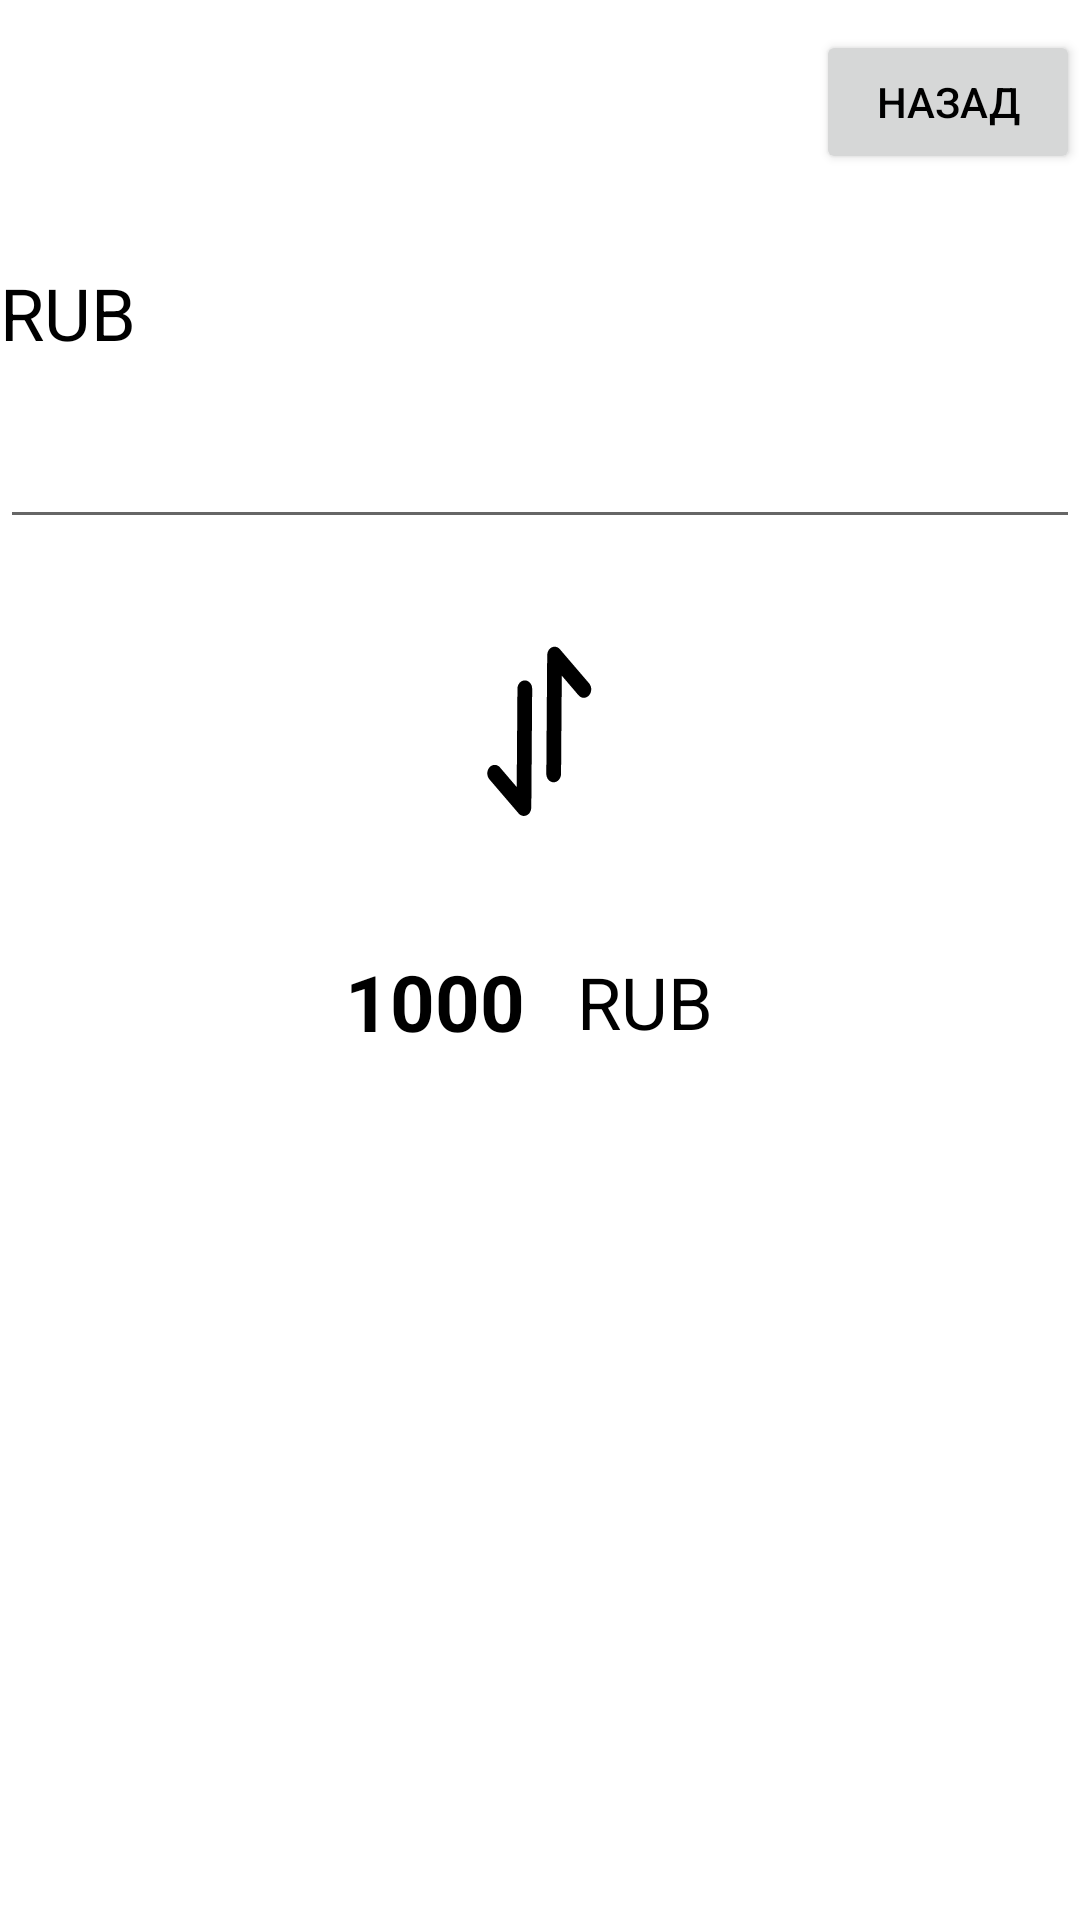

Icons on this 1080x1920 Android screen, each with the point to tap as point (x, y):
exchange swap: point (539, 731)
